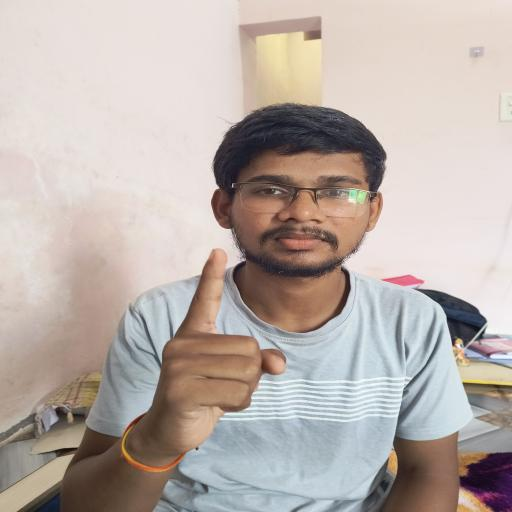What: (132, 236, 306, 466)
